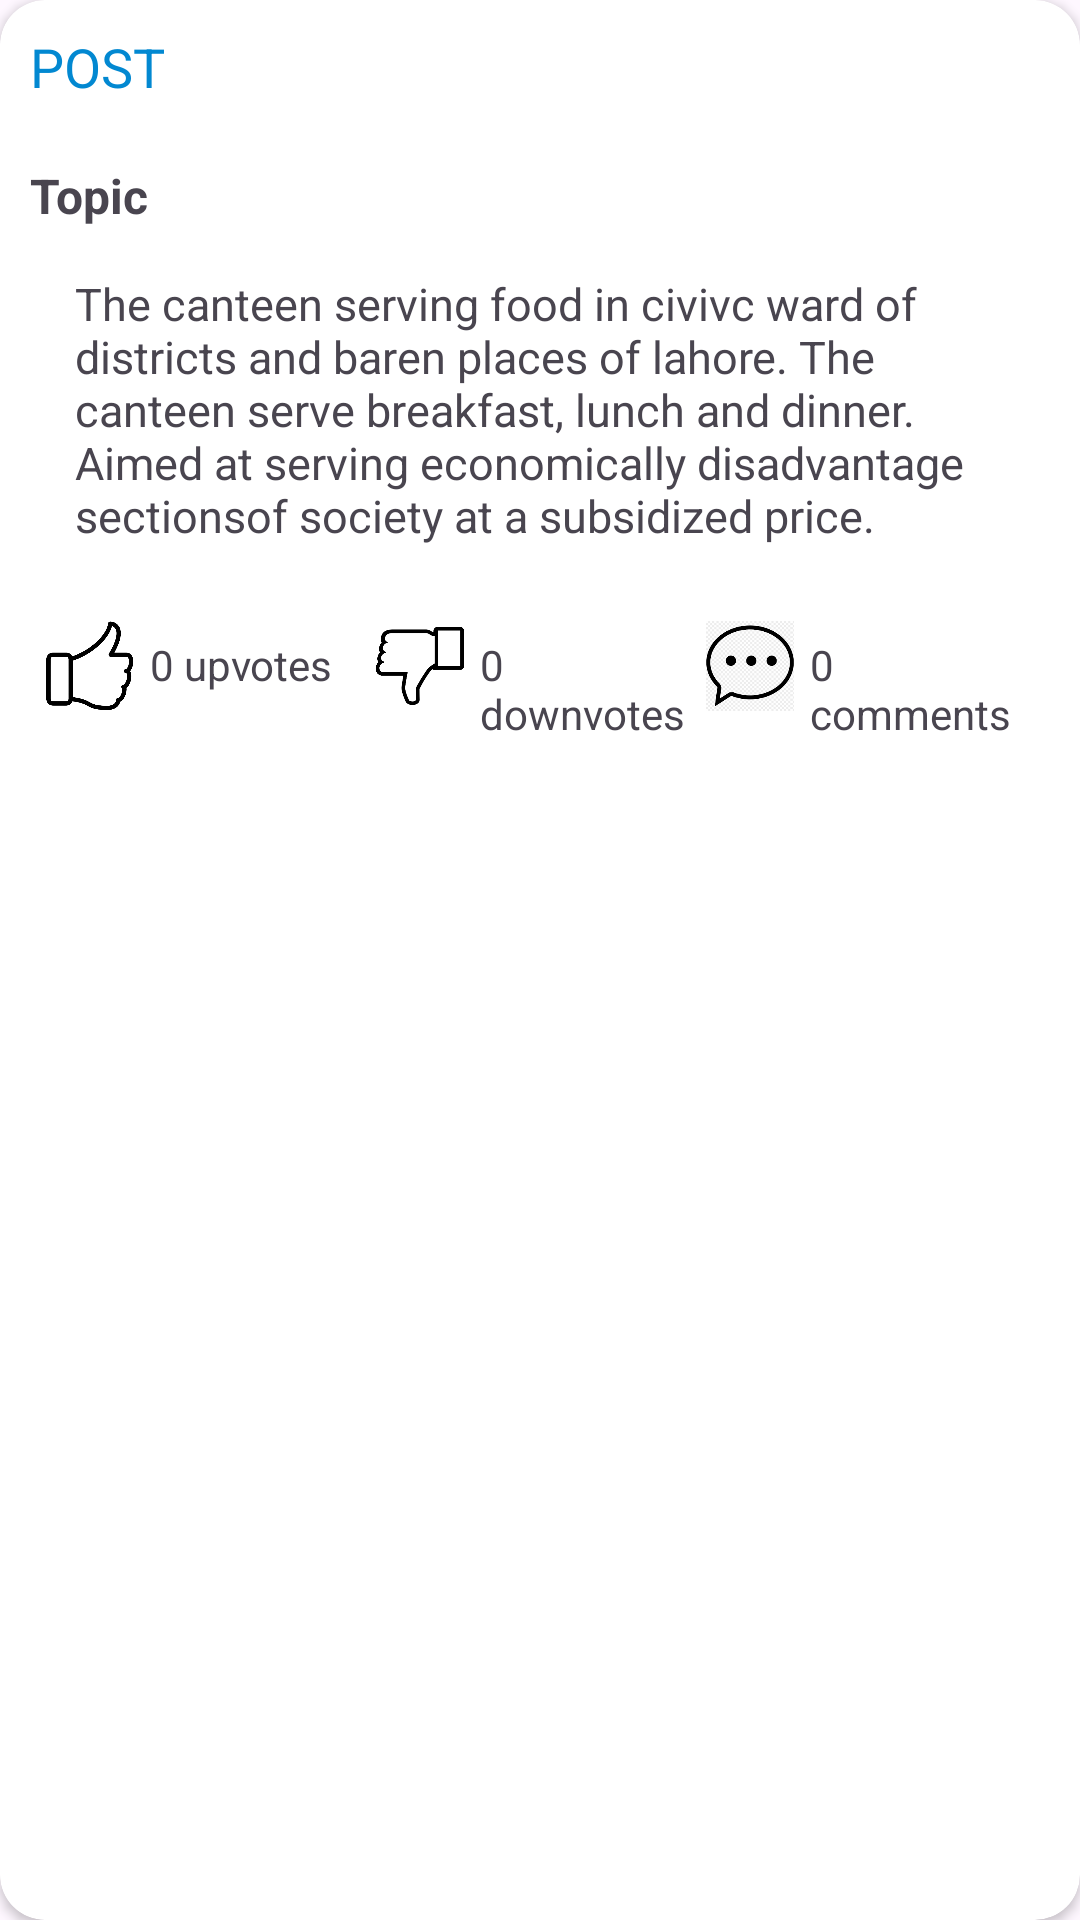

Point at icon controls on the screen. Image size 1080×1920, points as (x,y).
thumbs down: (420,666)
thumbs up: (89,665)
